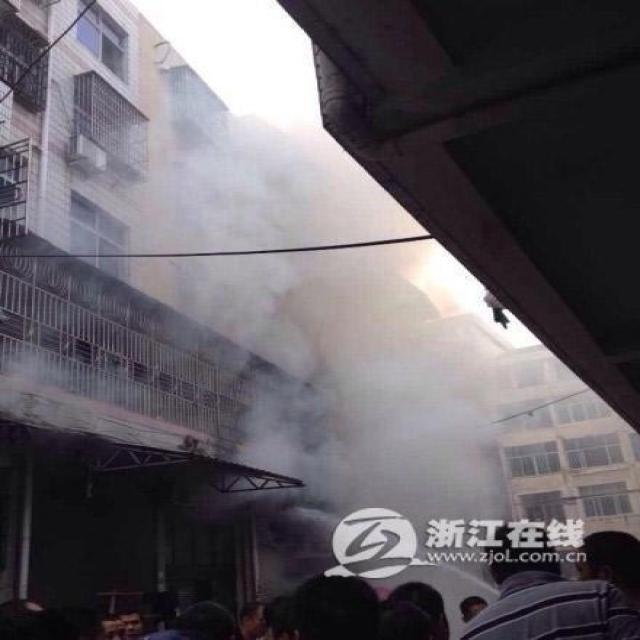Smoke: (2, 112, 510, 640)
